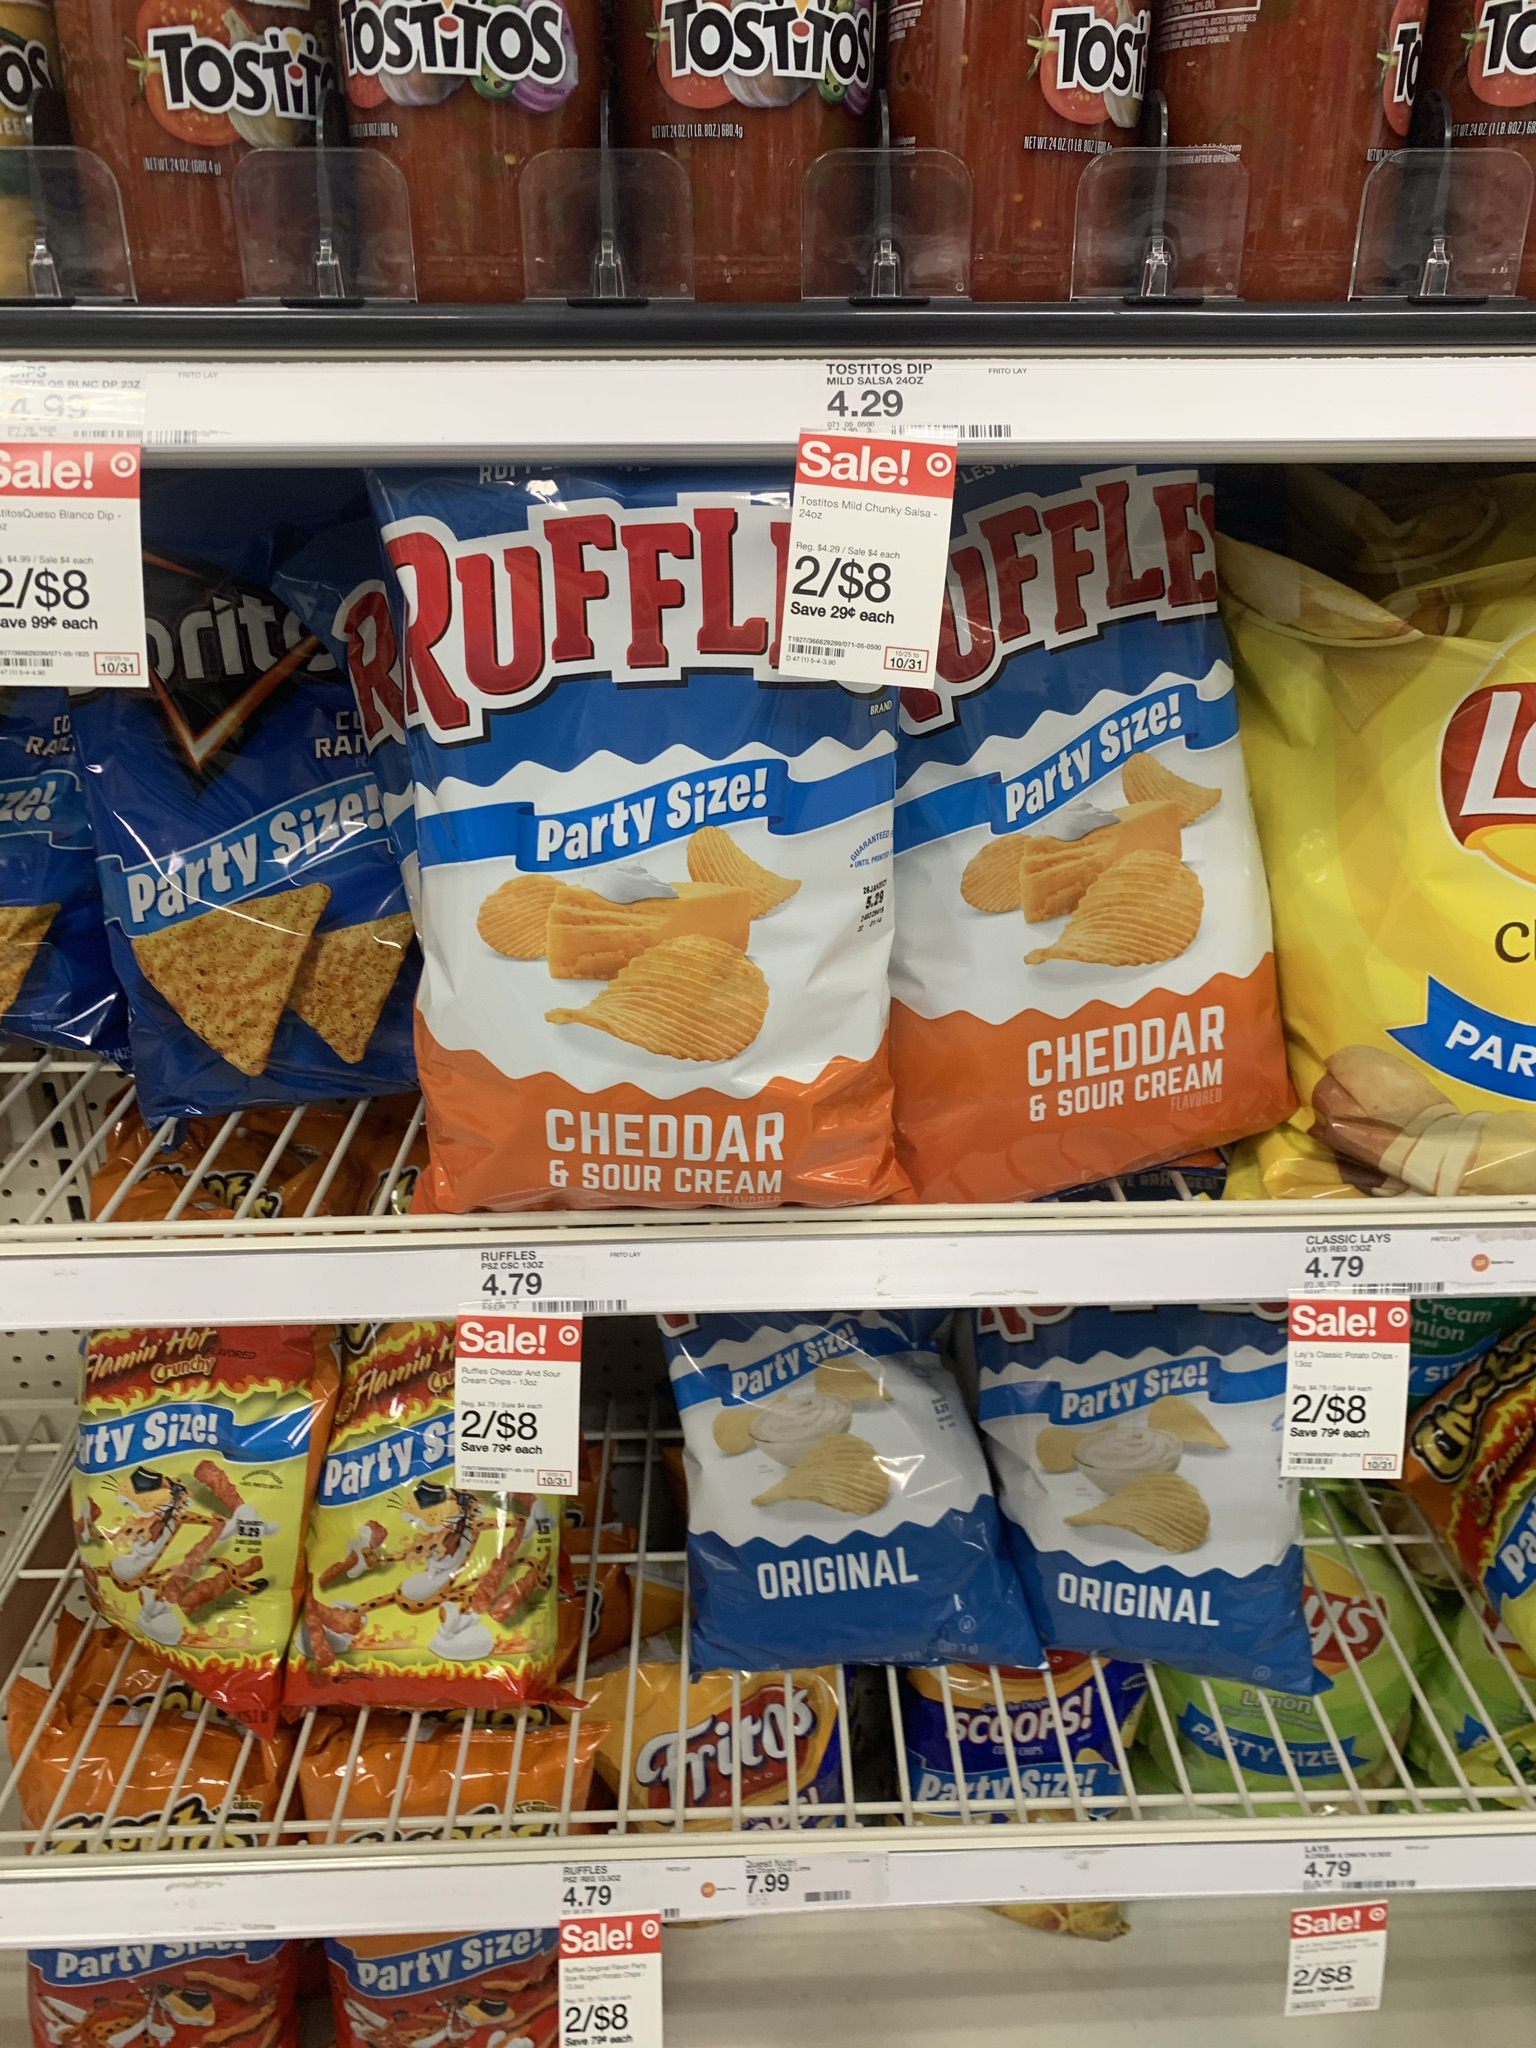doritos chips: (98, 561, 449, 1085)
lays: (1283, 576, 1536, 1201)
ruffles chips: (419, 514, 871, 1174), (928, 524, 1257, 1101), (682, 1314, 999, 1688), (1021, 1319, 1333, 1661)
